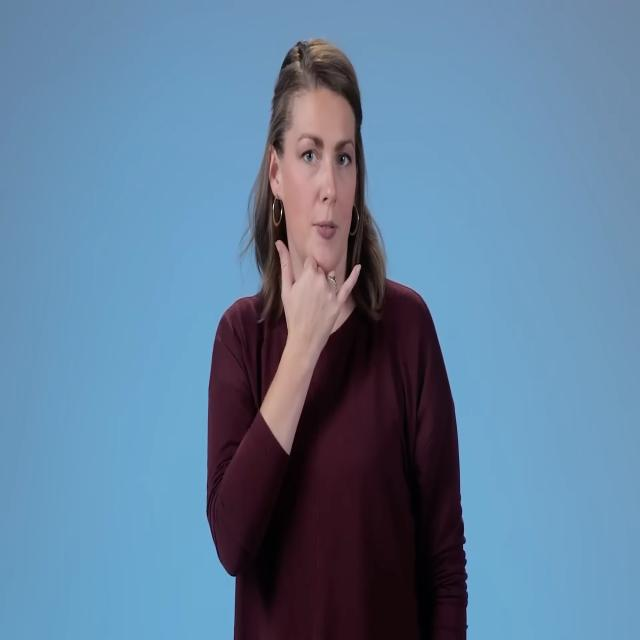wrong: (259, 220, 377, 375)
